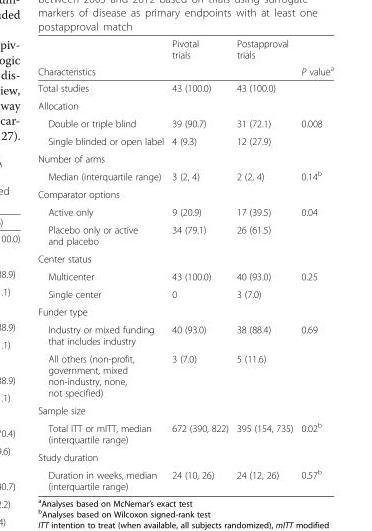table: (37, 37, 333, 491)
table column: (37, 37, 167, 491), (231, 37, 296, 491), (167, 37, 231, 491), (296, 37, 333, 491)
table column header: (37, 37, 333, 79)
table projected row header: (37, 96, 333, 114), (37, 249, 333, 267), (37, 302, 333, 320), (37, 149, 333, 166), (37, 185, 333, 202), (37, 401, 333, 418), (37, 448, 333, 465)
table row: (37, 349, 333, 401), (37, 418, 333, 448), (37, 220, 333, 249), (37, 320, 333, 349), (37, 465, 333, 491), (37, 37, 333, 61), (37, 166, 333, 185), (37, 61, 333, 79), (37, 96, 333, 114), (37, 131, 333, 149), (37, 202, 333, 220), (37, 249, 333, 267), (37, 284, 333, 302), (37, 302, 333, 320), (37, 79, 333, 96), (37, 114, 333, 131), (37, 149, 333, 166), (37, 185, 333, 202), (37, 267, 333, 284), (37, 401, 333, 418), (37, 448, 333, 465)
table spanning cell: (37, 37, 167, 79), (231, 37, 296, 79), (167, 37, 231, 79), (296, 37, 333, 79)
